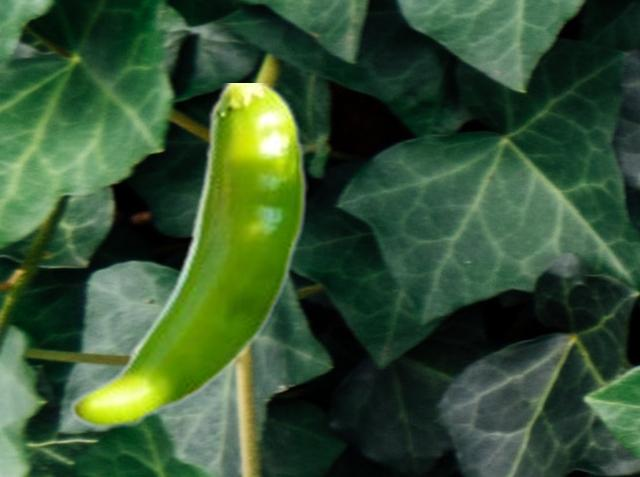green_chili: (68, 83, 307, 429)
